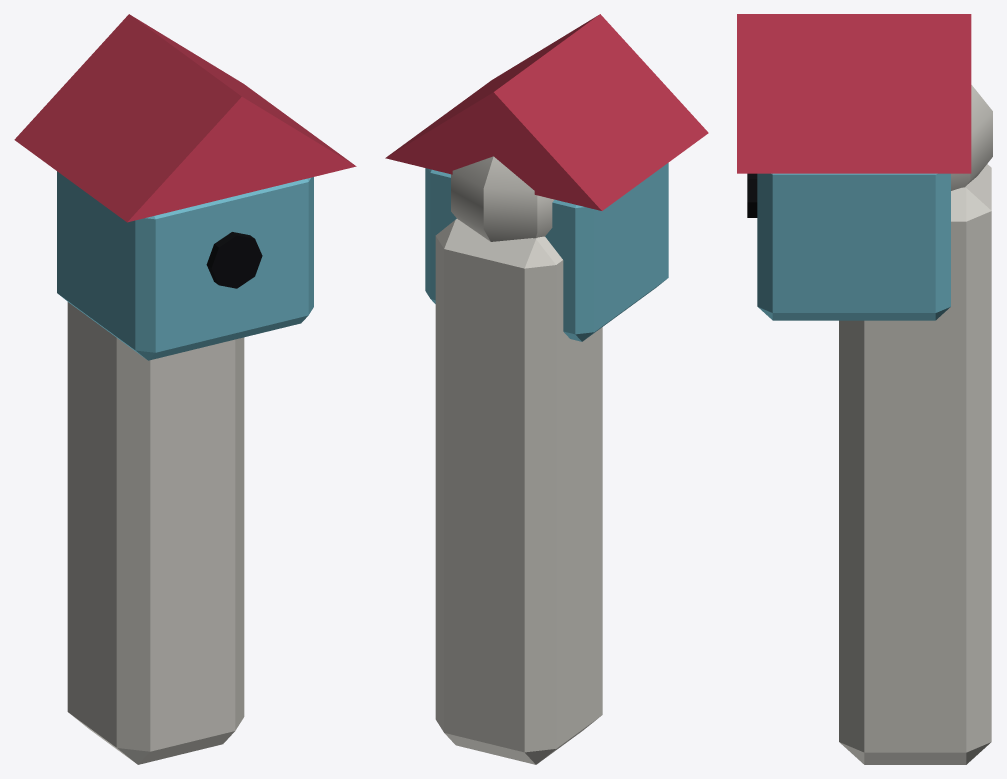
Rendered from edge_corner.glb.
The picture shows the model from 3 angles, left to right: view 1: azimuth 30°, elevation 25°; view 2: azimuth 150°, elevation 25°; view 3: azimuth 270°, elevation 25°; orthographic projection. The views are drawn at different scales.
Parts seen in each view (by area): view 1: body; view 2: body; view 3: body.
Part boxes in pixels (box(x1,y1,x2,y2)): body: box(14, 14, 356, 764); body: box(385, 14, 708, 764); body: box(737, 14, 992, 764).
Bounding box in the file's own units: 0.54 × 1.58 × 0.5022.
